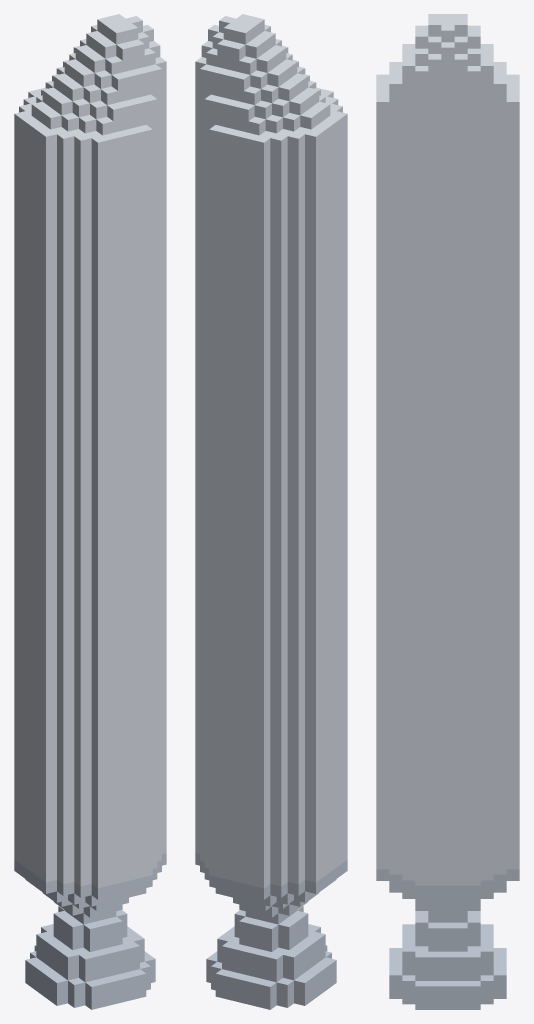
The model's file is Sun_V_booster.glb.
The picture shows the model from 3 angles, left to right: view 1: azimuth 30°, elevation 25°; view 2: azimuth 150°, elevation 25°; view 3: azimuth 270°, elevation 25°; orthographic projection. The views are drawn at different scales.
Parts seen in each view (by area): view 1: ObjObject.030; view 2: ObjObject.030; view 3: ObjObject.030.
Boxes of the visible parts, x1,y1,x2,y2 form: ObjObject.030: (14,14,166,1009); ObjObject.030: (195,14,347,1009); ObjObject.030: (376,14,519,1009).
Size of the model in its own units: 1.1 by 8.3 by 1.1.
1 material, 1 textured.
